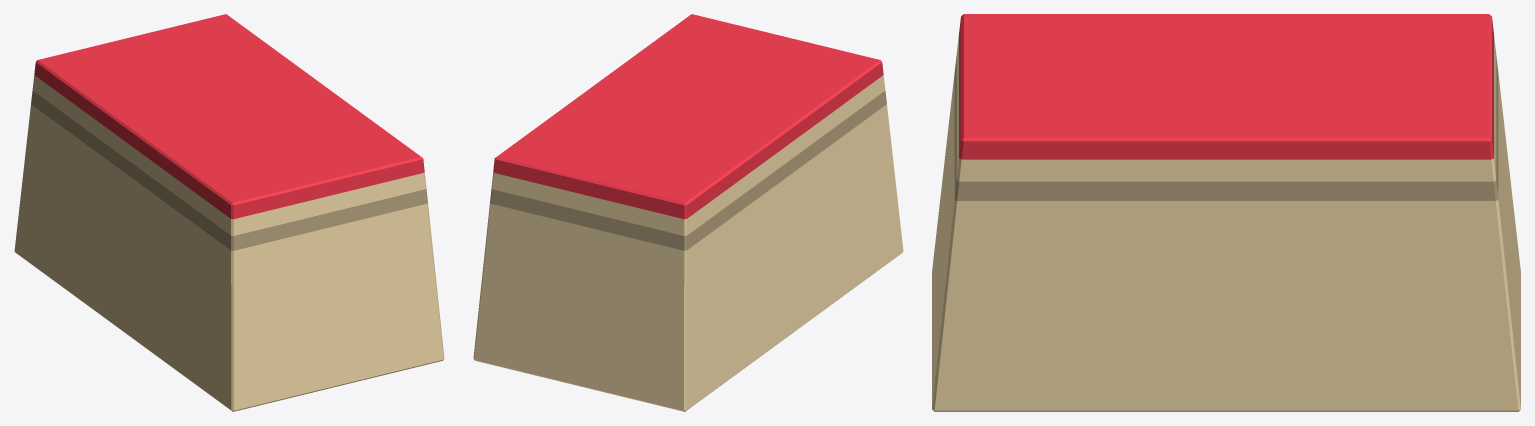
File: House_23.fbx
3 renders of one model, left to right at view 1: azimuth 30°, elevation 25°; view 2: azimuth 150°, elevation 25°; view 3: azimuth 270°, elevation 25°, orthographic. The views are drawn at different scales.
Visible parts, largest first — view 1: House_23; view 2: House_23; view 3: House_23.
Boxes of the visible parts, x1=… form: House_23: x1=14, y1=14, x2=444, y2=411; House_23: x1=473, y1=14, x2=903, y2=411; House_23: x1=932, y1=14, x2=1520, y2=411.
Bounding box in the file's own units: 63.23 × 56.25 × 112.
